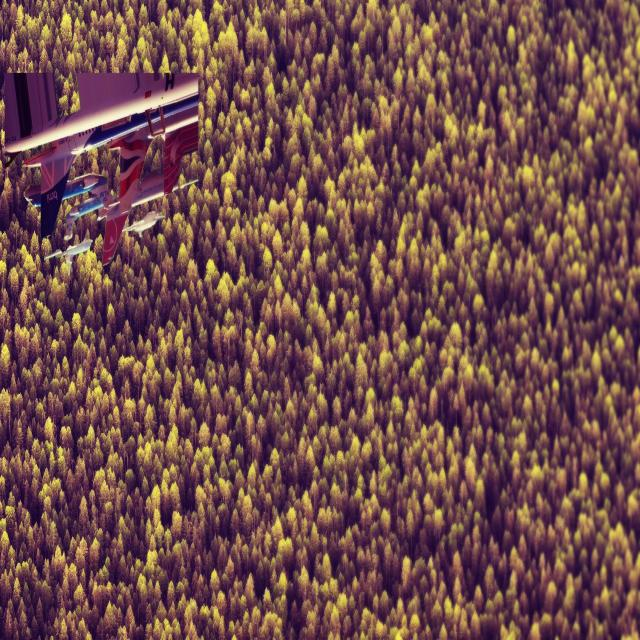airplane: (3, 69, 200, 268), (44, 237, 92, 270)
